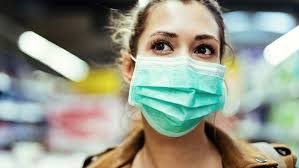with-mask: (125, 3, 236, 139)
